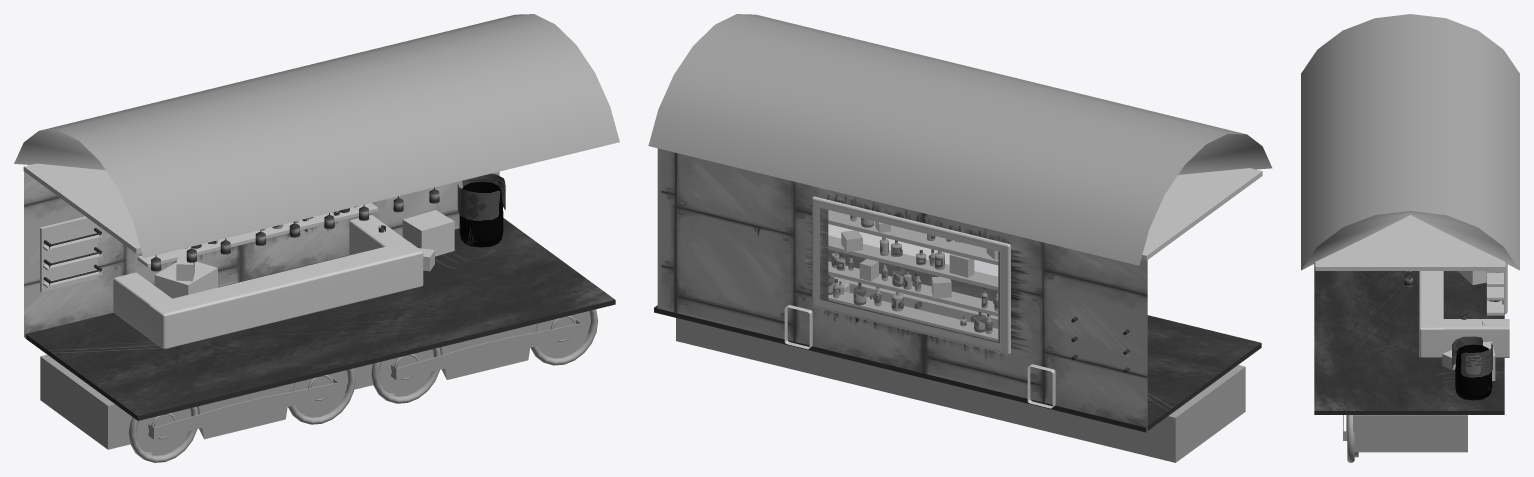
File: GDC_train-bar_set_full_car.fbx
3 renders of one model, left to right at view 1: azimuth 30°, elevation 25°; view 2: azimuth 150°, elevation 25°; view 3: azimuth 270°, elevation 25°, orthographic. The views are drawn at different scales.
Visible parts, largest first — view 1: polySurface143, polySurface267, polySurface312, polySurface144, polySurface255, polySurface202, polySurface219, polySurface208, polySurface235, polySurface200, polySurface209, polySurface223 (+13 smaller); view 2: polySurface143, polySurface144, pPlane1, polySurface255, polySurface267, polySurface266, polySurface202, polySurface312, polySurface201, polySurface197, polySurface200, polySurface196; view 3: polySurface143, polySurface267, polySurface202, polySurface255, polySurface312, pCylinder39, polySurface198, polySurface222, pCube9, polySurface197, polySurface200, polySurface196.
Part boxes in pixels (x1=…): polySurface143: x1=14, y1=14, x2=619, y2=258; polySurface267: x1=25, y1=218, x2=615, y2=420; polySurface312: x1=113, y1=215, x2=423, y2=348; polySurface144: x1=24, y1=170, x2=499, y2=337; polySurface255: x1=40, y1=311, x2=589, y2=449; polySurface202: x1=23, y1=163, x2=141, y2=253; polySurface219: x1=391, y1=319, x2=581, y2=380; polySurface208: x1=148, y1=379, x2=338, y2=439; polySurface235: x1=40, y1=216, x2=97, y2=292; polySurface200: x1=137, y1=203, x2=378, y2=267; polySurface209: x1=197, y1=384, x2=290, y2=439; polySurface223: x1=439, y1=324, x2=533, y2=379; polySurface143: x1=648, y1=14, x2=1272, y2=265; polySurface144: x1=657, y1=148, x2=1147, y2=431; pPlane1: x1=815, y1=202, x2=1000, y2=349; polySurface255: x1=676, y1=318, x2=1245, y2=462; polySurface267: x1=654, y1=249, x2=1261, y2=432; polySurface266: x1=812, y1=196, x2=1010, y2=354; polySurface202: x1=1141, y1=168, x2=1262, y2=260; polySurface312: x1=784, y1=276, x2=1055, y2=408; polySurface201: x1=828, y1=210, x2=998, y2=265; polySurface197: x1=828, y1=235, x2=998, y2=290; polySurface200: x1=828, y1=291, x2=998, y2=341; polySurface196: x1=828, y1=261, x2=998, y2=316; polySurface143: x1=1301, y1=14, x2=1519, y2=270; polySurface267: x1=1314, y1=263, x2=1504, y2=414; polySurface202: x1=1315, y1=215, x2=1505, y2=270; polySurface255: x1=1353, y1=415, x2=1467, y2=452; polySurface312: x1=1419, y1=271, x2=1509, y2=357; pCylinder39: x1=1455, y1=344, x2=1492, y2=400; polySurface198: x1=1452, y1=282, x2=1492, y2=389; polySurface222: x1=1347, y1=415, x2=1354, y2=462; pCube9: x1=1458, y1=271, x2=1486, y2=284; polySurface197: x1=1486, y1=272, x2=1503, y2=286; polySurface200: x1=1486, y1=300, x2=1503, y2=315; polySurface196: x1=1486, y1=287, x2=1503, y2=300.
Bounding box in the file's own units: 18.16 × 10.93 × 8.33.
